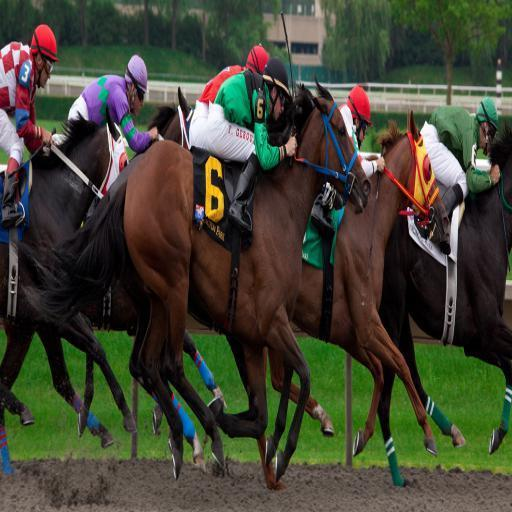horse: (0, 70, 512, 492)
